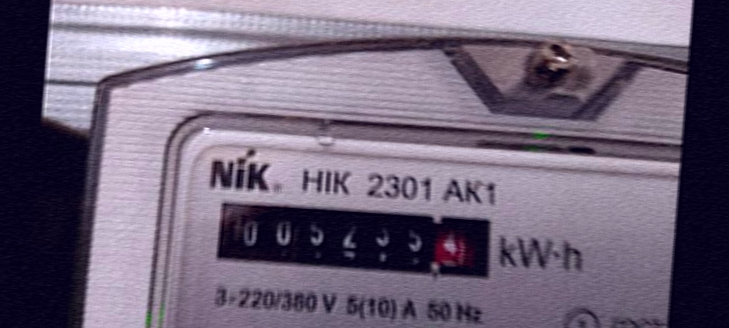0: (273, 216, 295, 251), (241, 218, 261, 250)
2: (339, 219, 362, 254)
3: (371, 219, 397, 254)
4: (439, 225, 464, 262)
5: (405, 221, 429, 258), (307, 217, 328, 252)
screen: (200, 186, 508, 296)
